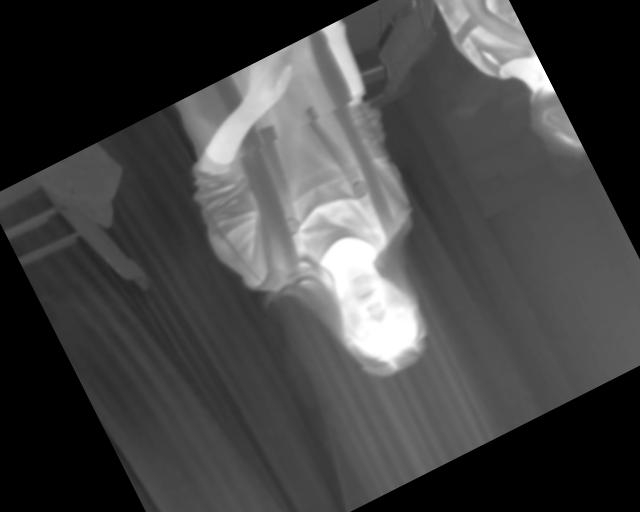face: (319, 257, 441, 387)
